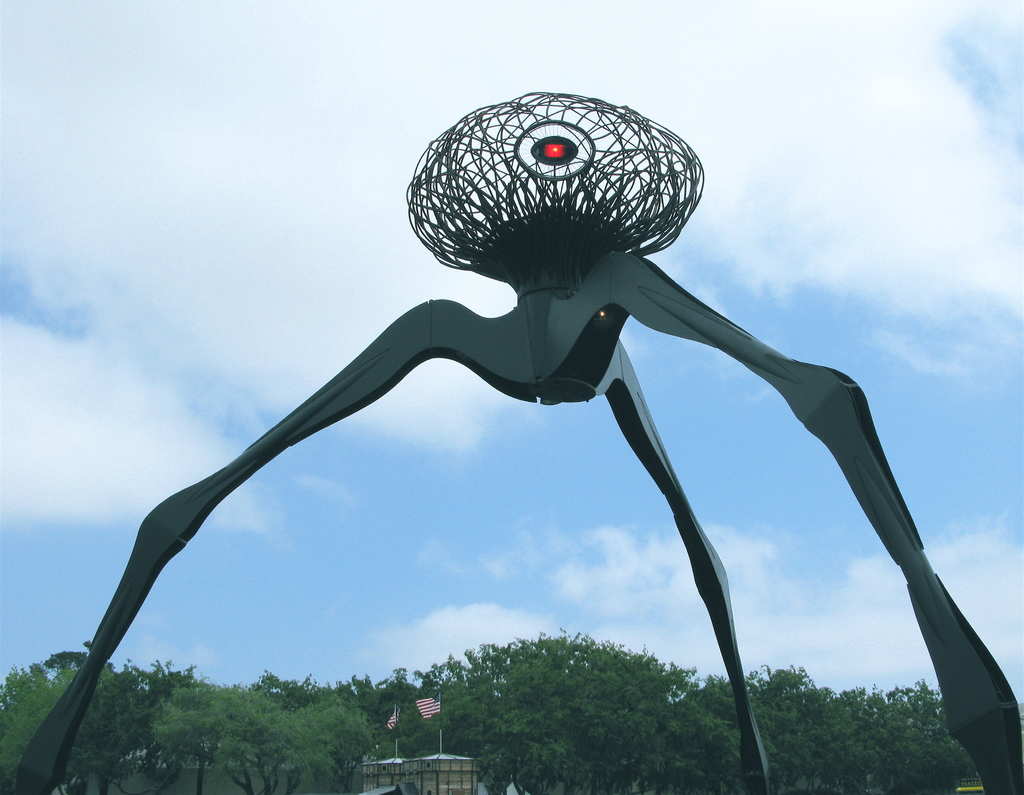Tree: (376, 632, 977, 794), (152, 682, 370, 793), (0, 642, 149, 794)
